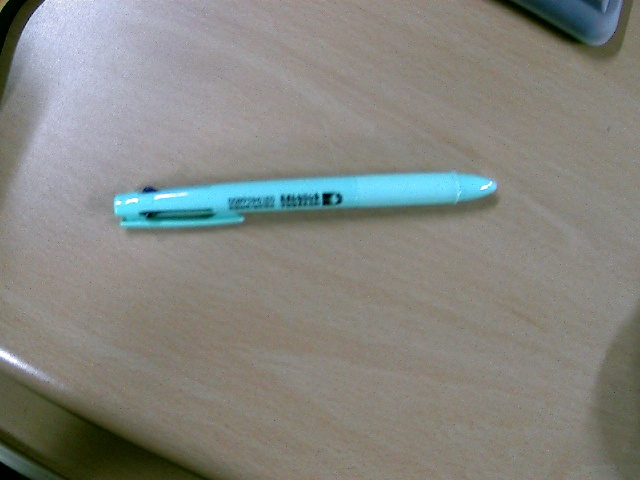pen: (112, 170, 500, 225)
